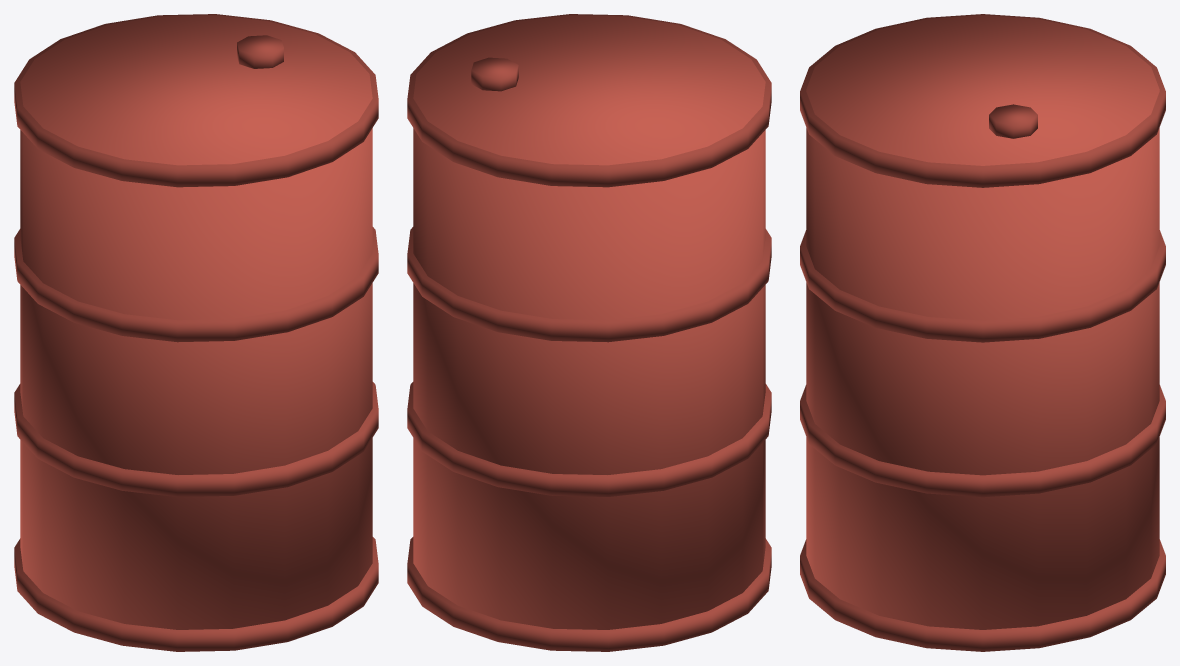
The model's file is oil_drum_red.glb.
3 renders of one model, left to right at view 1: azimuth 30°, elevation 25°; view 2: azimuth 150°, elevation 25°; view 3: azimuth 270°, elevation 25°, orthographic.
Visible parts, largest first — view 1: Drum; view 2: Drum; view 3: Drum.
Boxes of the visible parts, x1=… form: Drum: x1=14, y1=14, x2=378, y2=651; Drum: x1=407, y1=14, x2=771, y2=651; Drum: x1=800, y1=14, x2=1165, y2=651.
Size of the model in its own units: 0.6 by 0.905 by 0.6.
